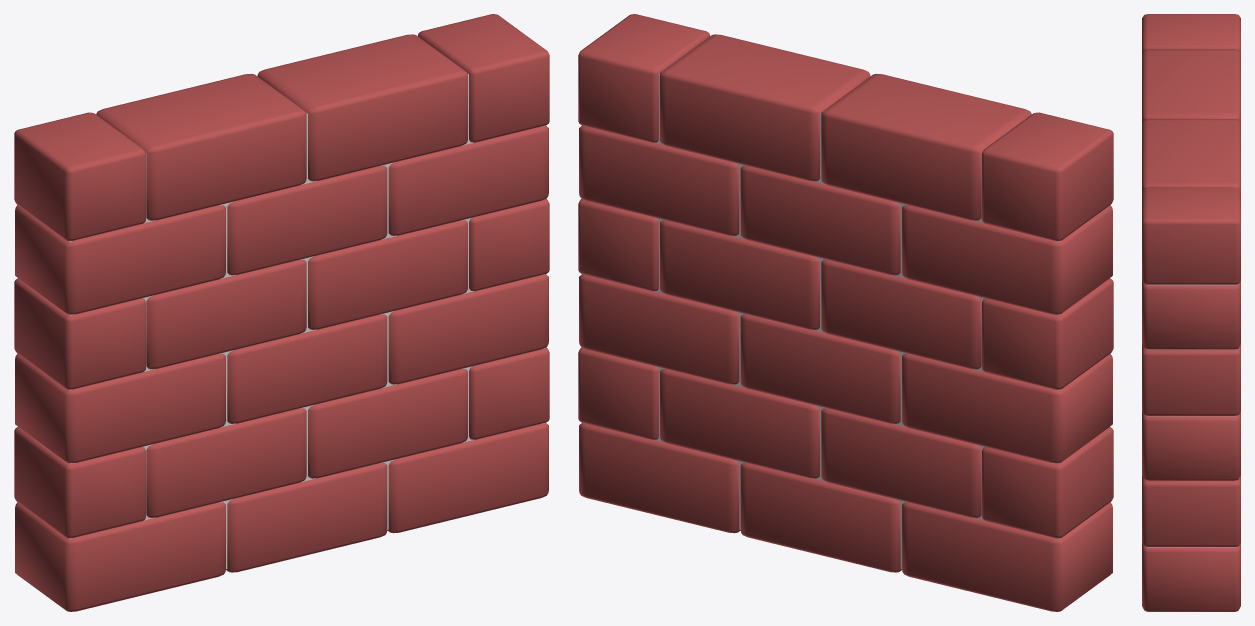
The model's file is WallWhole_01.fbx.
The picture shows the model from 3 angles, left to right: view 1: azimuth 30°, elevation 25°; view 2: azimuth 150°, elevation 25°; view 3: azimuth 270°, elevation 25°; orthographic projection. The views are drawn at different scales.
Visible parts, largest first — view 1: WallWholeBase, WallWholeCenter; view 2: WallWholeBase, WallWholeCenter; view 3: WallWholeBase, WallWholeCenter.
Part boxes in pixels (x1=…): WallWholeBase: x1=14, y1=14, x2=549, y2=611; WallWholeCenter: x1=68, y1=74, x2=544, y2=569; WallWholeBase: x1=578, y1=14, x2=1113, y2=611; WallWholeCenter: x1=583, y1=74, x2=1059, y2=569; WallWholeBase: x1=1142, y1=14, x2=1240, y2=611; WallWholeCenter: x1=1147, y1=284, x2=1235, y2=547.
Bounding box in the file's own units: 300 × 264 × 60.
